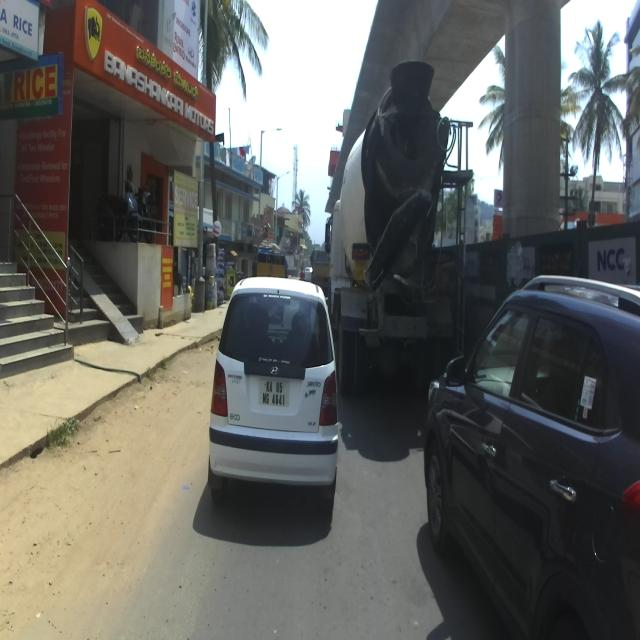car ahead at: (425, 269, 640, 640), (214, 269, 343, 522)
truck ahead at: (325, 55, 475, 331)
